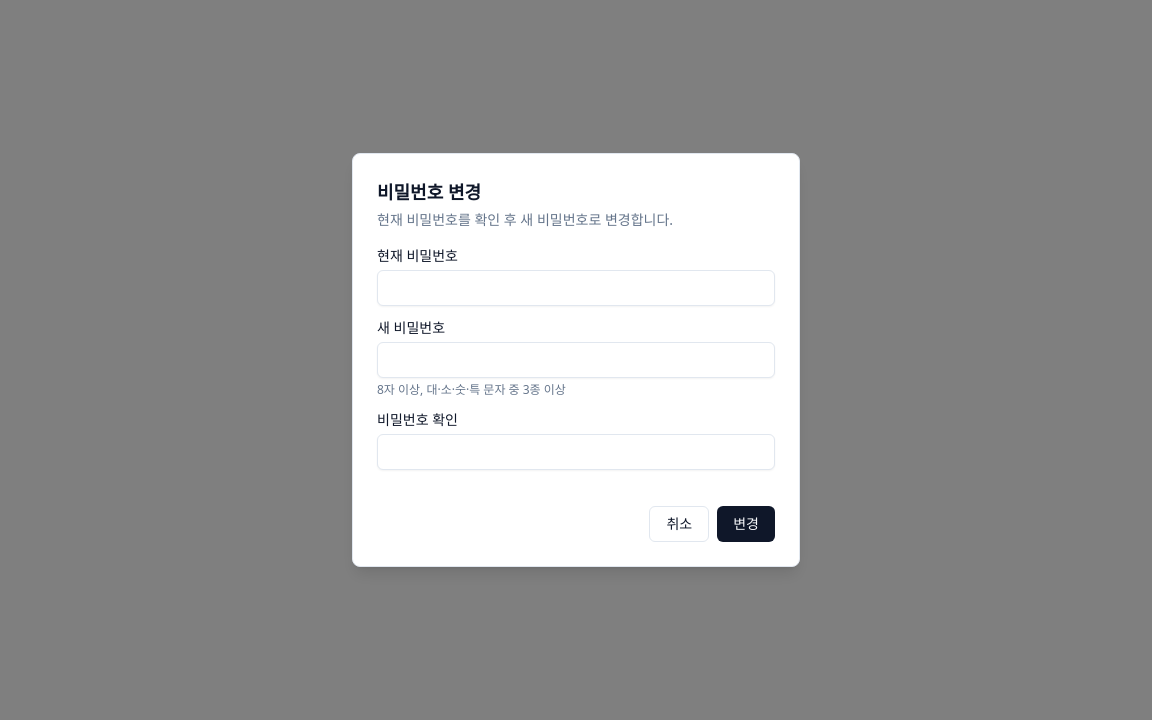
Test: ChangePasswordDialog › shows error when newPassword fails complexity policy
Type "OldPass1!" into the password field labelled "현재 비밀번호" at (576, 288), box [377,270,775,306]
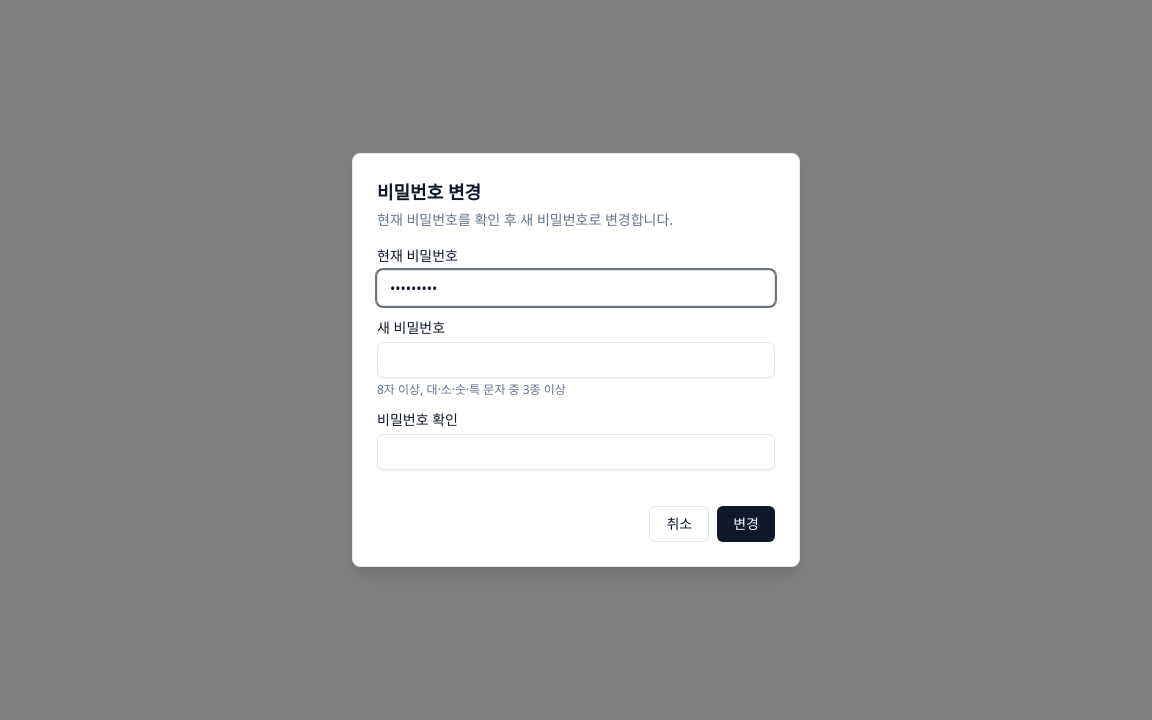
Type "alllower1" into the password field labelled "새 비밀번호" at (576, 360), box [377,342,775,378]
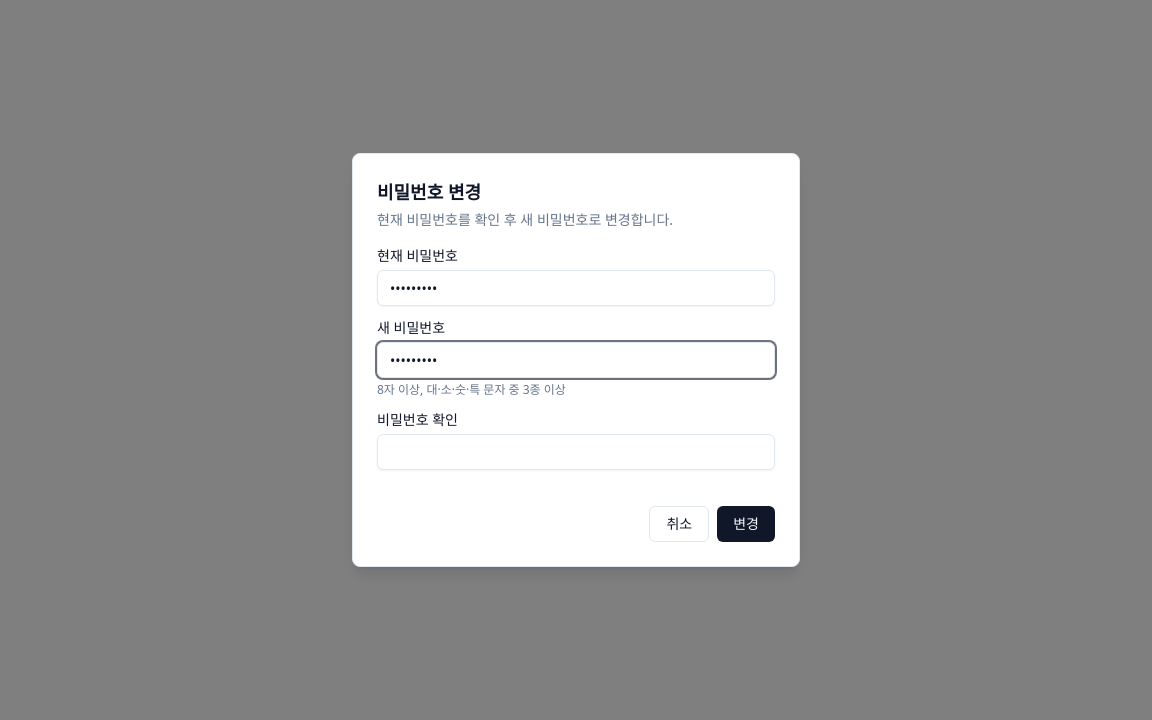
Type "alllower1" into the password field labelled "비밀번호 확인" at (576, 452), box [377,434,775,470]
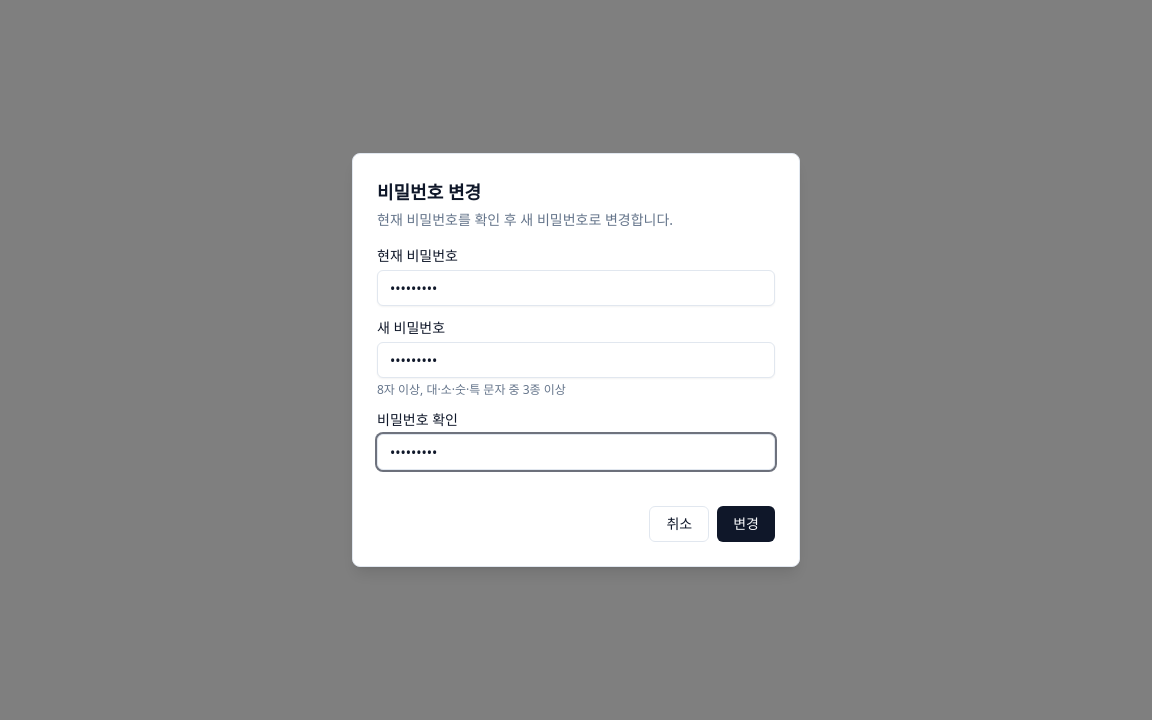
Click the button "변경" at (746, 524), box [717,506,775,542]
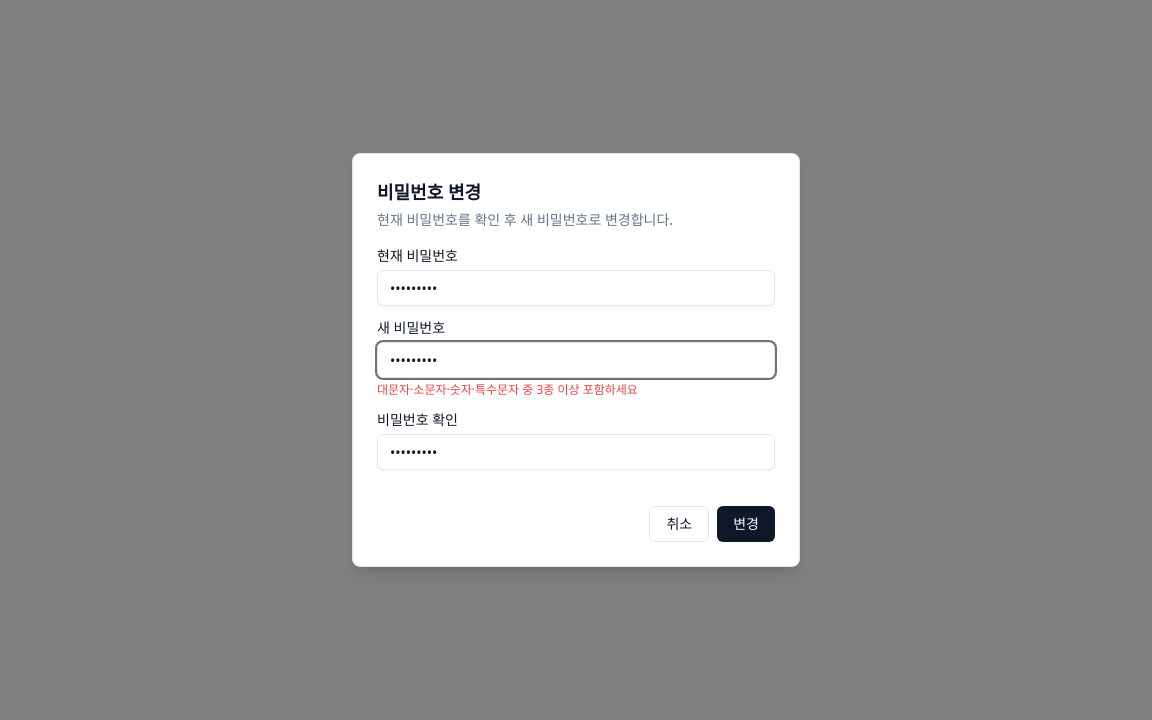
Result: the text "대문자·소문자·숫자·특수문자 중 3종 이상 포함하세요" is shown at [377,381,638,398]
